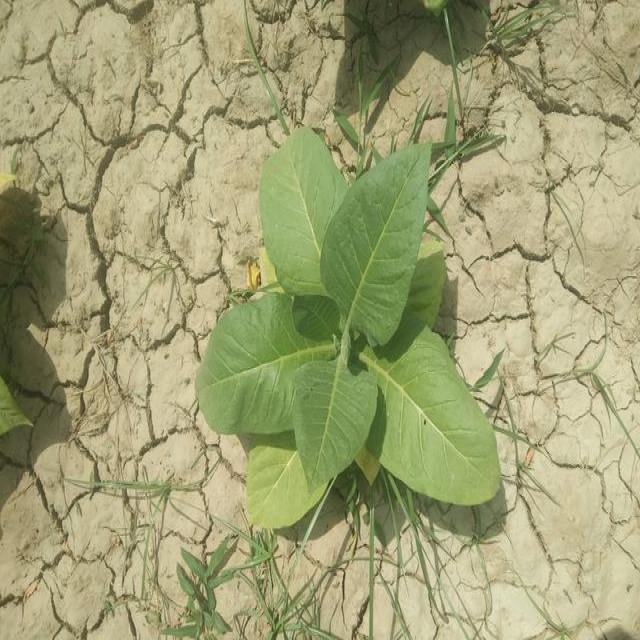crop: (197, 119, 498, 532)
